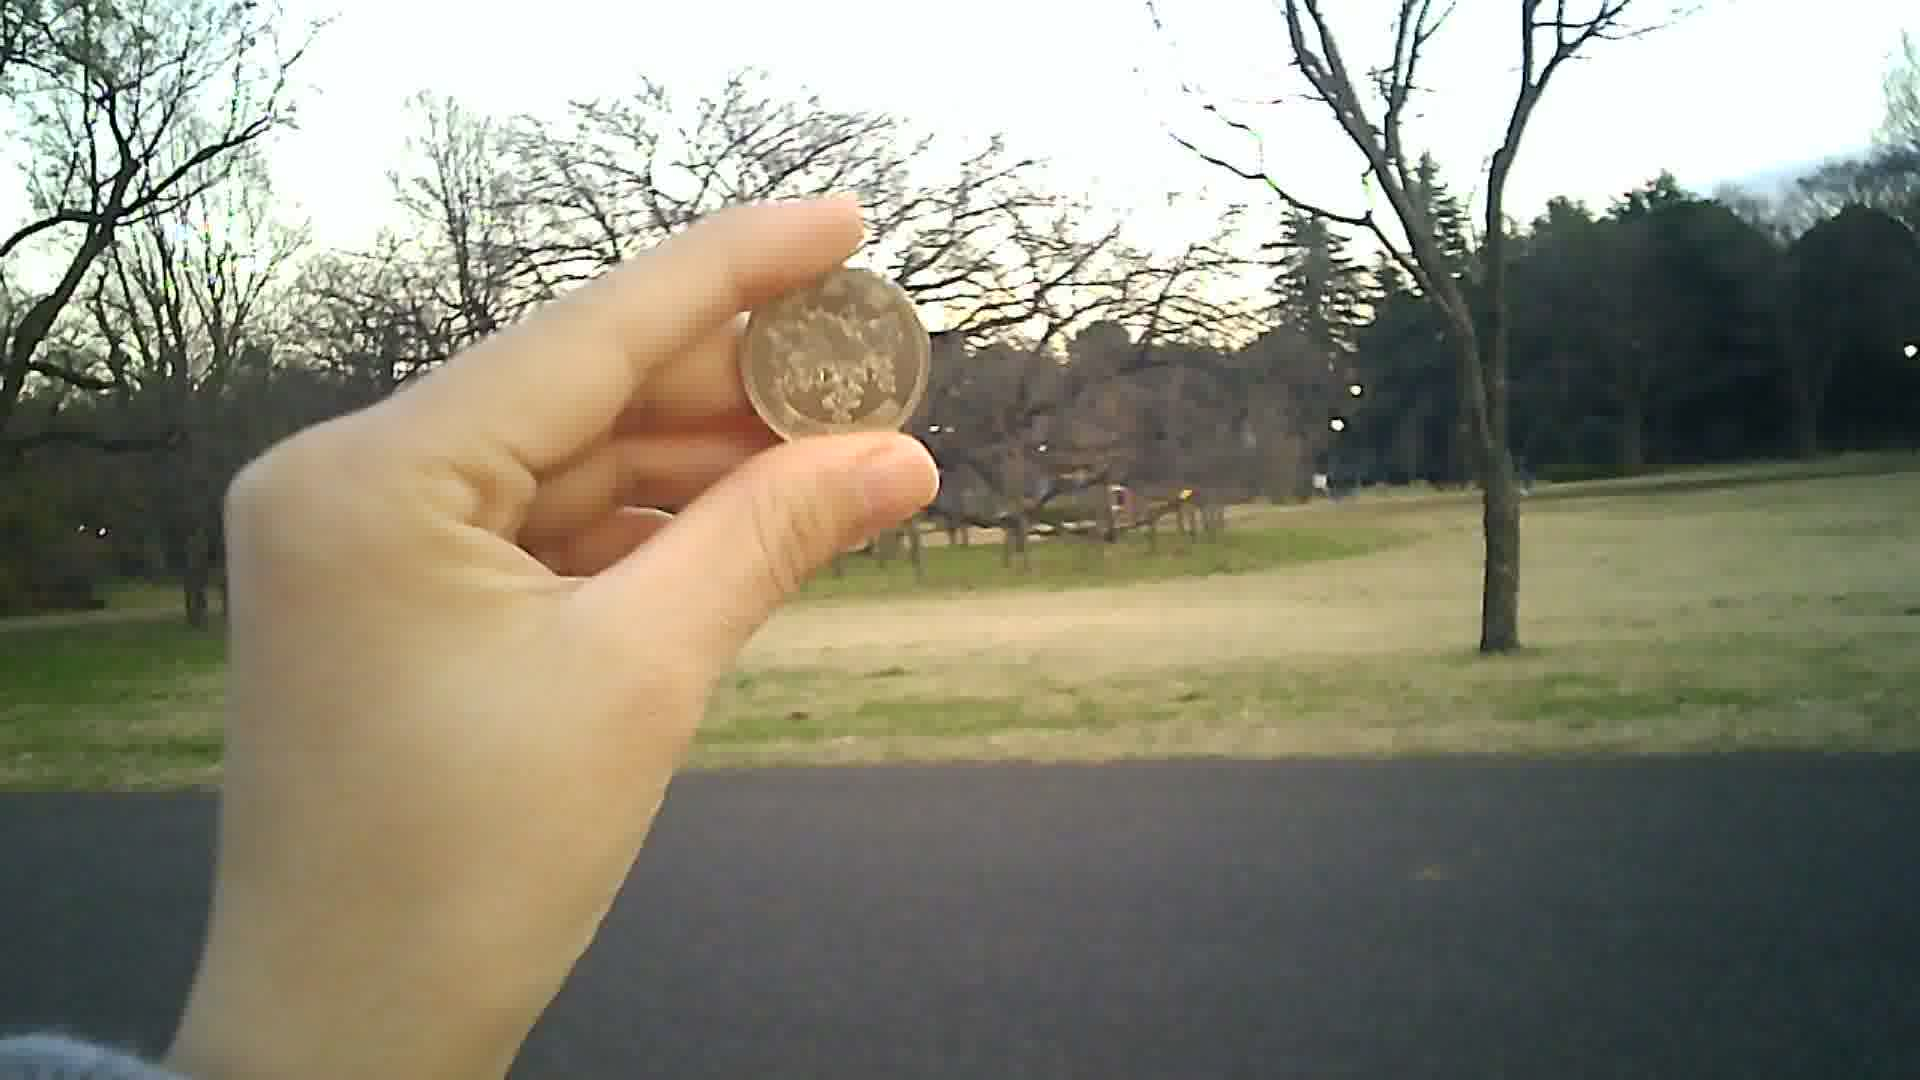500 Yen: (737, 262, 932, 454)
